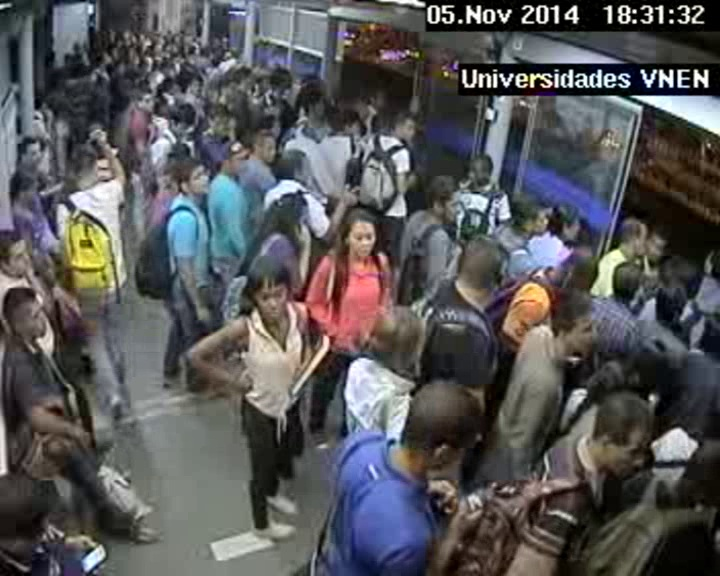person: (404, 379, 485, 476), (590, 393, 657, 478), (1, 477, 66, 558), (370, 302, 431, 372), (242, 256, 300, 322), (547, 294, 603, 360), (451, 236, 512, 295), (662, 429, 718, 493), (2, 286, 53, 346), (340, 206, 387, 259), (555, 245, 601, 294), (421, 174, 466, 223), (627, 336, 670, 385), (587, 355, 630, 404), (508, 191, 552, 237), (271, 192, 311, 236), (1, 230, 39, 275), (548, 203, 584, 244), (65, 148, 102, 187), (175, 158, 210, 198), (277, 149, 313, 187), (619, 217, 651, 259), (654, 286, 689, 324), (609, 261, 645, 297), (202, 101, 234, 141), (15, 134, 48, 170), (219, 140, 252, 176), (671, 262, 704, 297), (8, 173, 38, 211), (249, 129, 280, 164), (465, 153, 496, 187), (222, 86, 252, 119), (84, 124, 113, 158), (299, 90, 328, 122), (646, 229, 671, 264), (391, 111, 420, 141), (171, 103, 199, 130), (339, 108, 363, 136), (366, 85, 389, 111), (148, 112, 171, 138), (270, 67, 292, 92), (134, 89, 156, 112), (49, 96, 70, 120), (185, 75, 206, 98), (233, 64, 254, 85), (206, 69, 226, 87), (160, 75, 177, 95), (124, 67, 142, 84), (33, 96, 49, 115), (49, 76, 64, 94), (70, 65, 85, 81), (98, 53, 111, 67), (221, 51, 235, 64), (151, 57, 164, 71), (138, 79, 151, 91), (211, 35, 221, 50), (161, 54, 173, 66), (108, 43, 119, 55), (209, 58, 221, 69), (171, 33, 181, 44), (199, 47, 209, 57), (163, 43, 172, 54), (188, 44, 197, 55), (145, 47, 153, 57), (123, 30, 131, 39), (132, 33, 139, 40), (144, 35, 151, 42), (130, 43, 138, 49), (107, 25, 113, 32)
